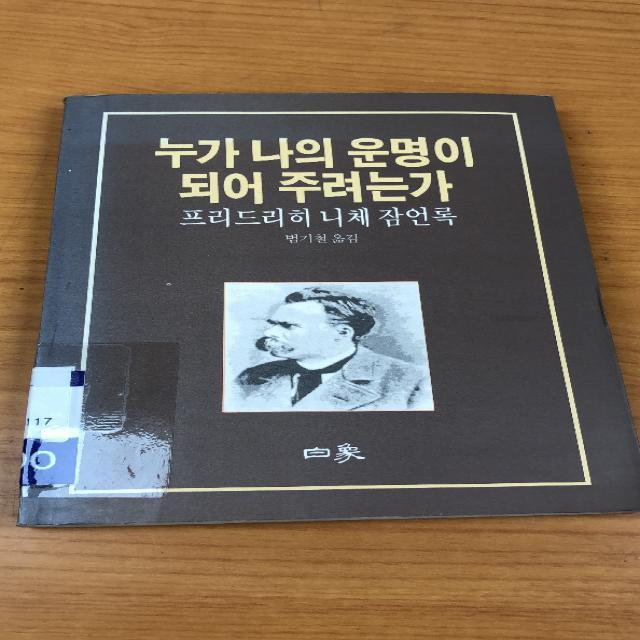Wornout: (14, 509, 141, 531), (60, 91, 156, 110), (510, 88, 558, 102)
